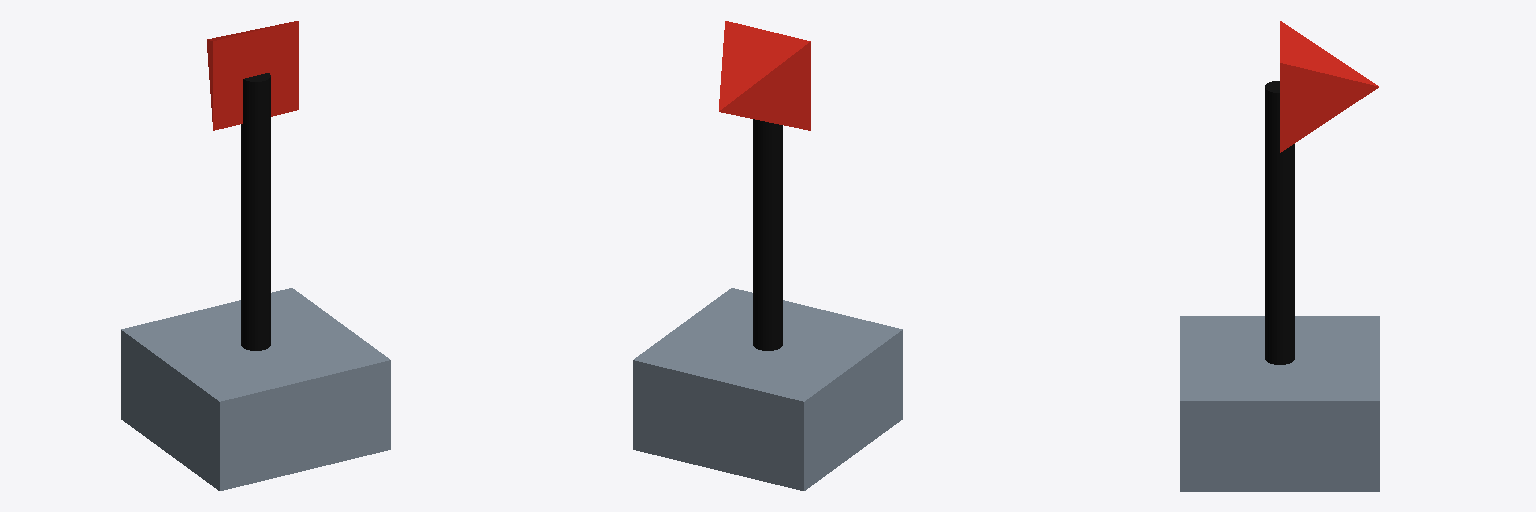
URDF robot description (mesh_robot):
<?xml version="1.0"?>
<!-- Sample robot that uses mesh files: load it together with cube.stl and pyramid.dae -->
<robot name="mesh_robot">
  <material name="steel"><color rgba="0.55 0.6 0.65 1"/></material>
  <link name="base_link">
    <visual>
      <origin xyz="-0.1 -0.1 0"/>
      <geometry><mesh filename="package://demo_description/meshes/cube.stl" scale="0.2 0.2 0.1"/></geometry>
      <material name="steel"/>
    </visual>
  </link>
  <link name="mast">
    <visual><origin xyz="0 0 0.15"/><geometry><cylinder radius="0.015" length="0.3"/></geometry>
      <material name="black"><color rgba="0.1 0.1 0.1 1"/></material></visual>
  </link>
  <link name="head">
    <visual><geometry><mesh filename="package://demo_description/meshes/pyramid.dae"/></geometry></visual>
  </link>
  <joint name="base_to_mast" type="fixed"><parent link="base_link"/><child link="mast"/><origin xyz="0 0 0.1"/></joint>
  <joint name="pan" type="continuous"><parent link="mast"/><child link="head"/>
    <origin xyz="0 0 0.3"/><axis xyz="0 0 1"/></joint>
</robot>

--- Render facts (derived) ---
The picture shows the robot from 3 angles, left to right: view 1: azimuth 30°, elevation 25°; view 2: azimuth 150°, elevation 25°; view 3: azimuth 270°, elevation 25°; orthographic projection.
Model mesh_robot with 3 links and 2 joints (1 continuous, 1 fixed), rooted at base_link, posed all joints at 0.
Visible links, largest first — view 1: base_link, mast, head; view 2: base_link, head, mast; view 3: base_link, mast, head.
Boxes of the visible links, x1=… form: base_link: x1=121, y1=288, x2=390, y2=490; mast: x1=241, y1=73, x2=270, y2=350; head: x1=207, y1=21, x2=298, y2=130; base_link: x1=633, y1=288, x2=902, y2=490; head: x1=719, y1=21, x2=810, y2=130; mast: x1=753, y1=119, x2=782, y2=350; base_link: x1=1180, y1=316, x2=1379, y2=491; mast: x1=1265, y1=81, x2=1294, y2=364; head: x1=1280, y1=21, x2=1378, y2=152.
Size in the robot's own frame: 0.2 by 0.2 by 0.45 metres.
2 mesh visuals loaded from 2 distinct referenced files (1 ASCII STL, 1 Collada DAE).
